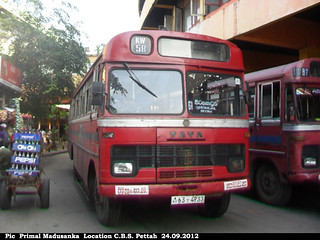bus: (66, 30, 251, 224), (242, 56, 320, 206)
